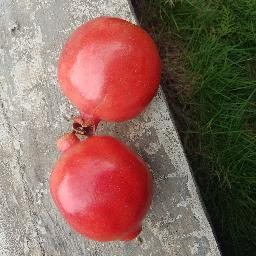Good_pomegranate: (46, 121, 159, 247), (56, 16, 166, 133)
